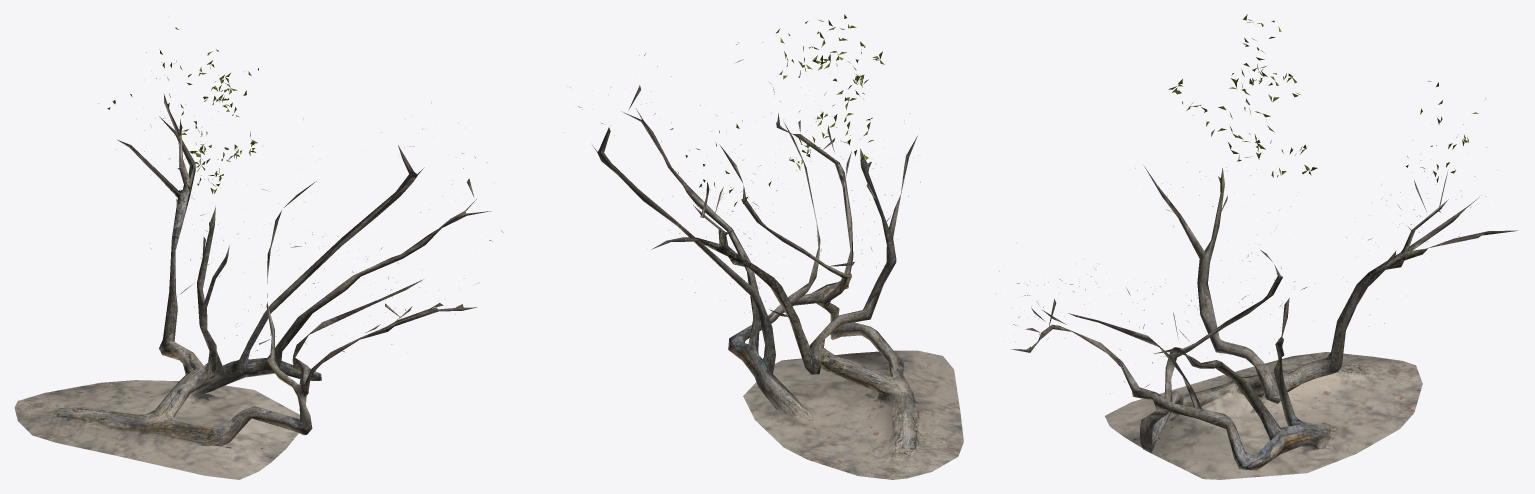
Rendered from broadleaf-island-03.glb.
The picture shows the model from 3 angles, left to right: view 1: azimuth 30°, elevation 25°; view 2: azimuth 150°, elevation 25°; view 3: azimuth 270°, elevation 25°; orthographic projection. The views are drawn at different scales.
Parts seen in each view (by area): view 1: island_tree_03_LOD0; view 2: island_tree_03_LOD0; view 3: island_tree_03_LOD0.
Part boxes in pixels (x1=…): island_tree_03_LOD0: x1=14, y1=27, x2=503, y2=479; island_tree_03_LOD0: x1=570, y1=14, x2=963, y2=479; island_tree_03_LOD0: x1=996, y1=14, x2=1518, y2=479.
Size of the model in its own units: 2.92 by 2.44 by 2.78.
3 materials, 3 textured.
